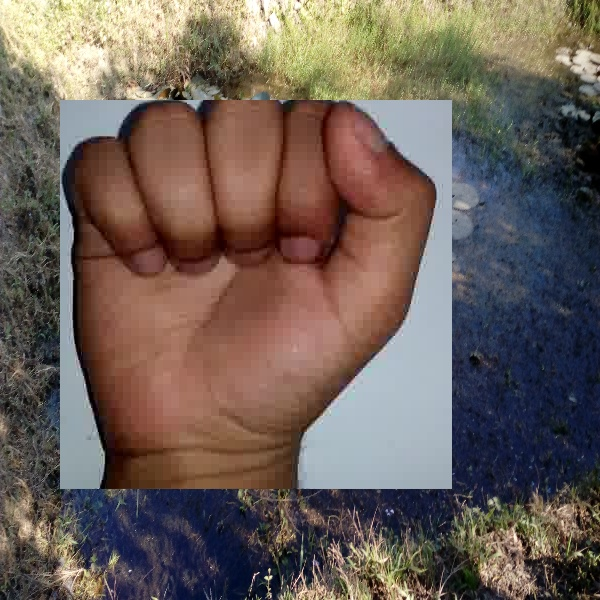A: (60, 100, 452, 489)
